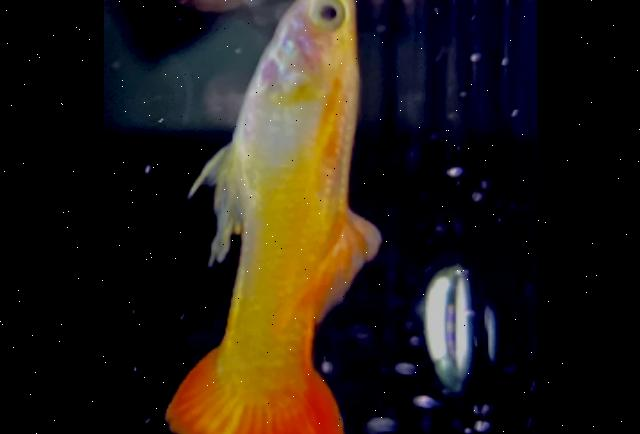Mulut: (276, 0, 384, 17)
Sirip Anal: (198, 190, 256, 288)
Sirip Ekor: (156, 337, 359, 434)
Sirip Perut: (164, 132, 246, 204)
Sirip Punggung: (286, 184, 394, 354)
